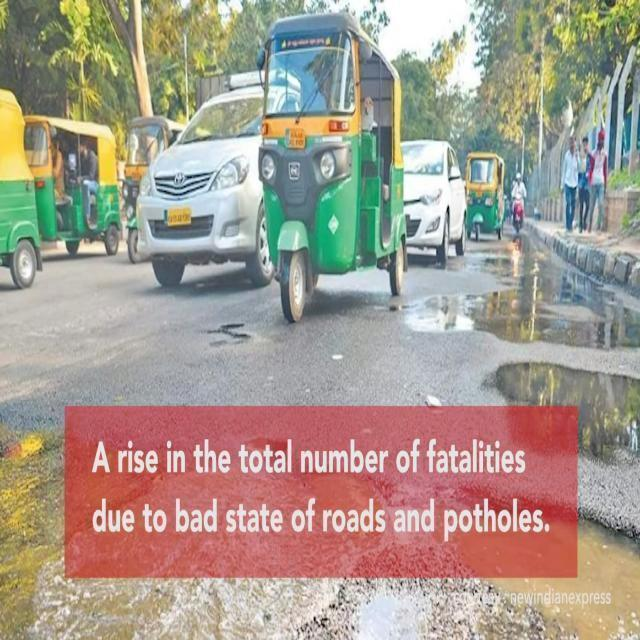pothole: (32, 566, 346, 640), (491, 521, 640, 640)
